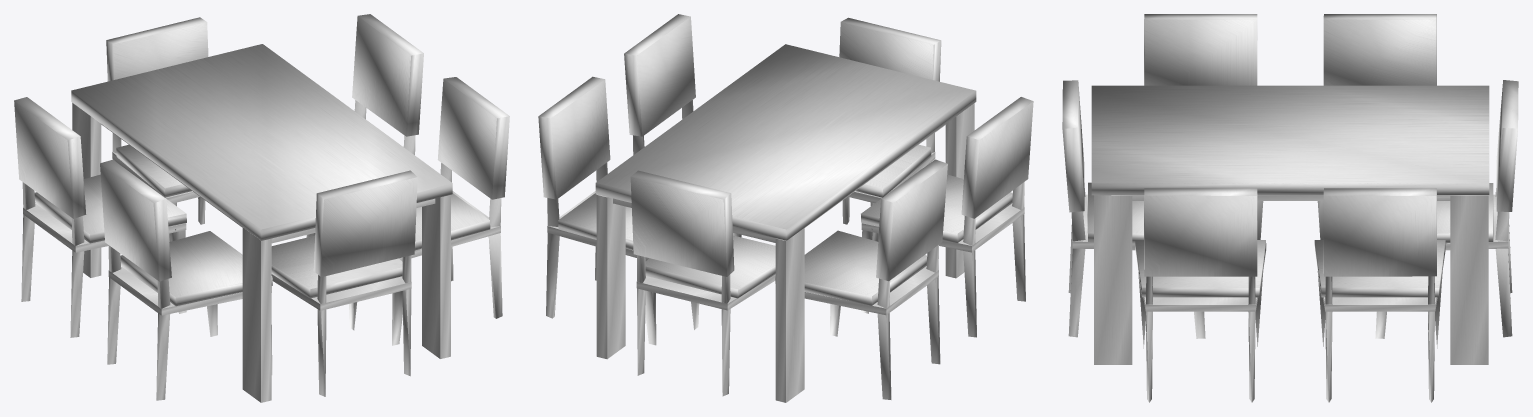
File: sillas_mesas_cortas.fbx
The picture shows the model from 3 angles, left to right: view 1: azimuth 30°, elevation 25°; view 2: azimuth 150°, elevation 25°; view 3: azimuth 270°, elevation 25°; orthographic projection. The views are drawn at different scales.
Parts seen in each view (by area): view 1: Minimalist Dining Table.025; view 2: Minimalist Dining Table.025; view 3: Minimalist Dining Table.025.
Boxes of the visible parts, <box> form: Minimalist Dining Table.025: <box>14,14,509,402</box>; Minimalist Dining Table.025: <box>538,14,1033,402</box>; Minimalist Dining Table.025: <box>1062,14,1518,402</box>.
Size of the model in its own units: 3853 by 2101 by 4082.
1 material, 1 textured.
